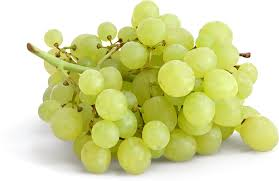Green grapes: (26, 2, 276, 164)
